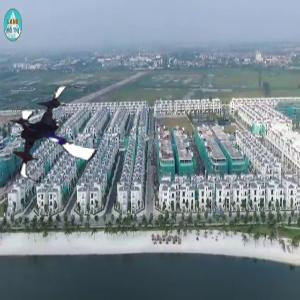drone: (2, 81, 110, 189)
